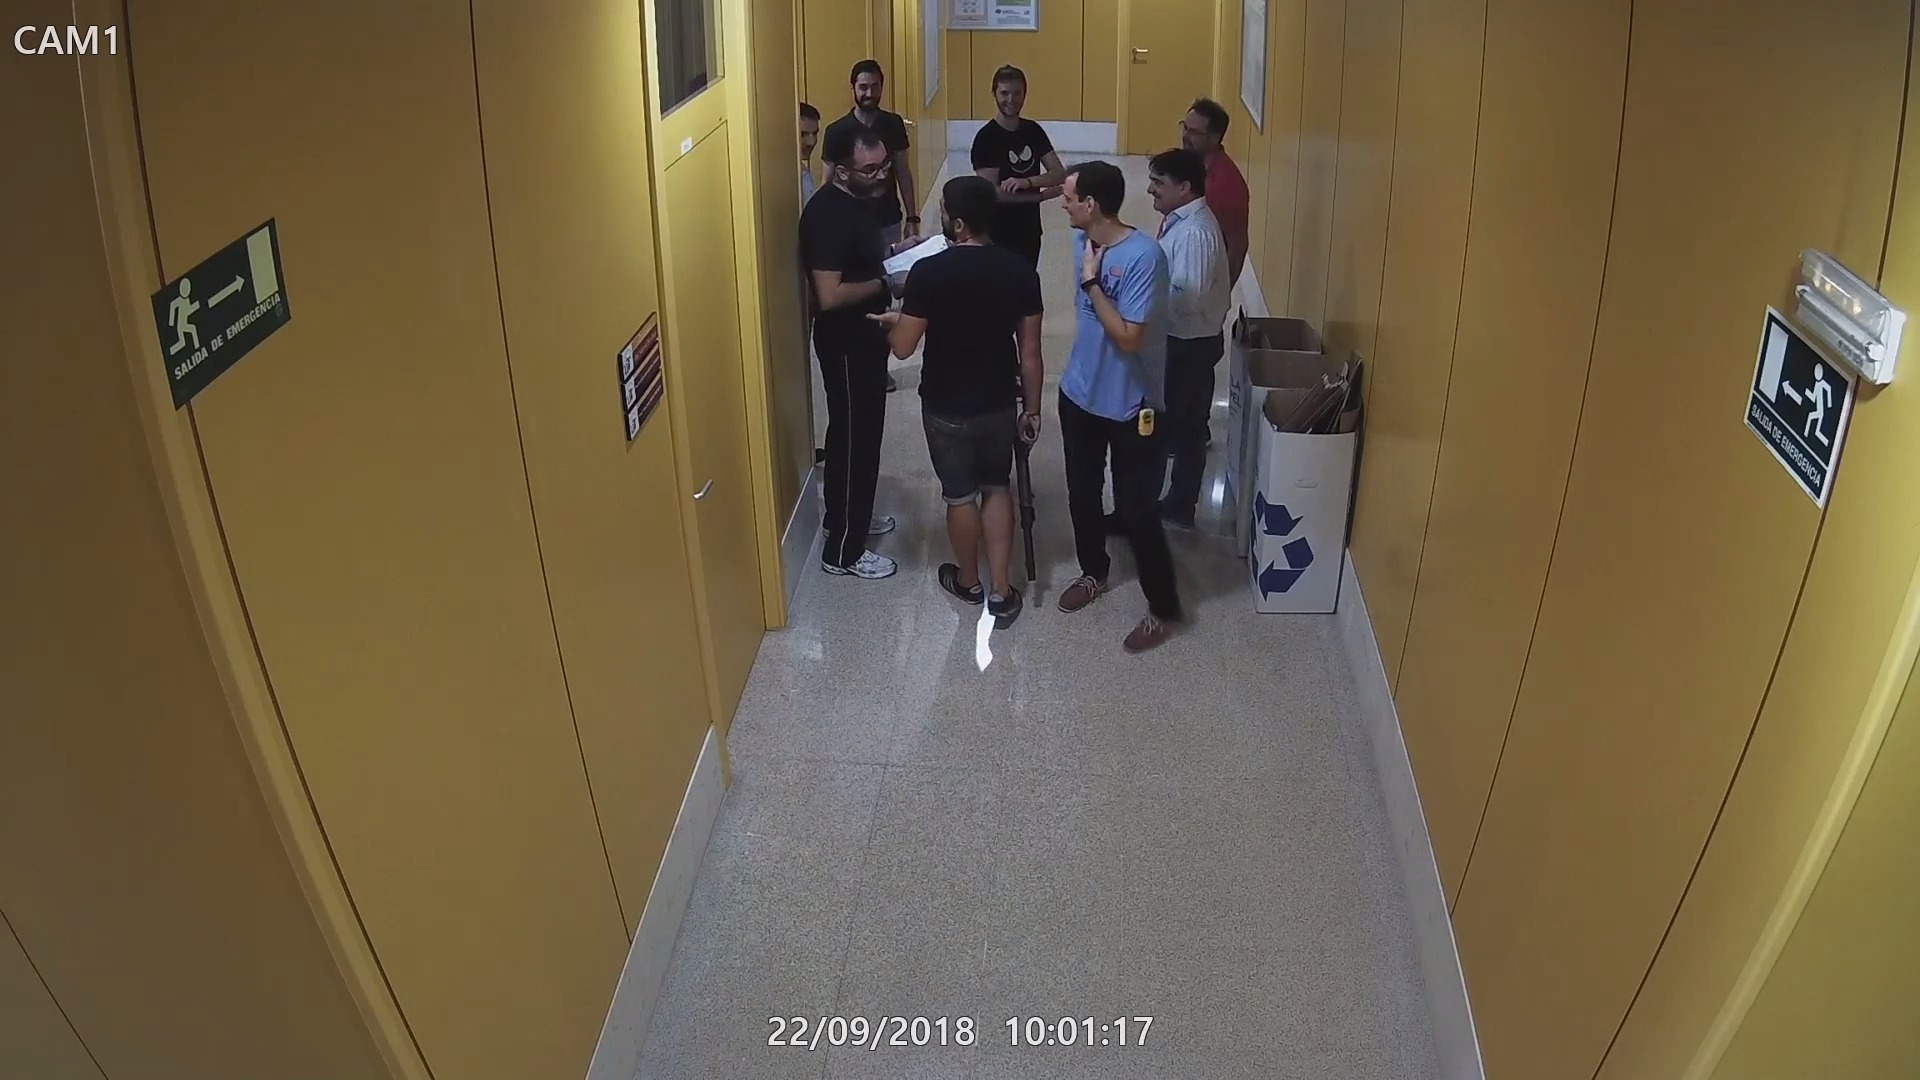rifle: (1011, 411, 1044, 584)
